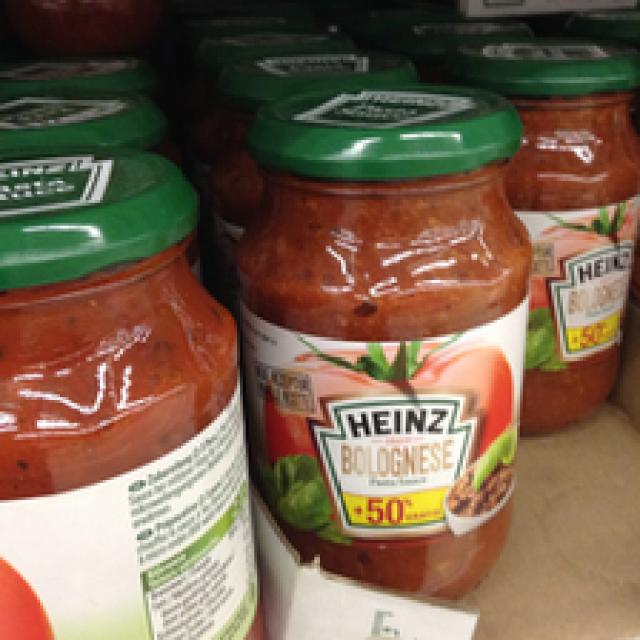groceries: (228, 77, 532, 597), (0, 140, 260, 637)
